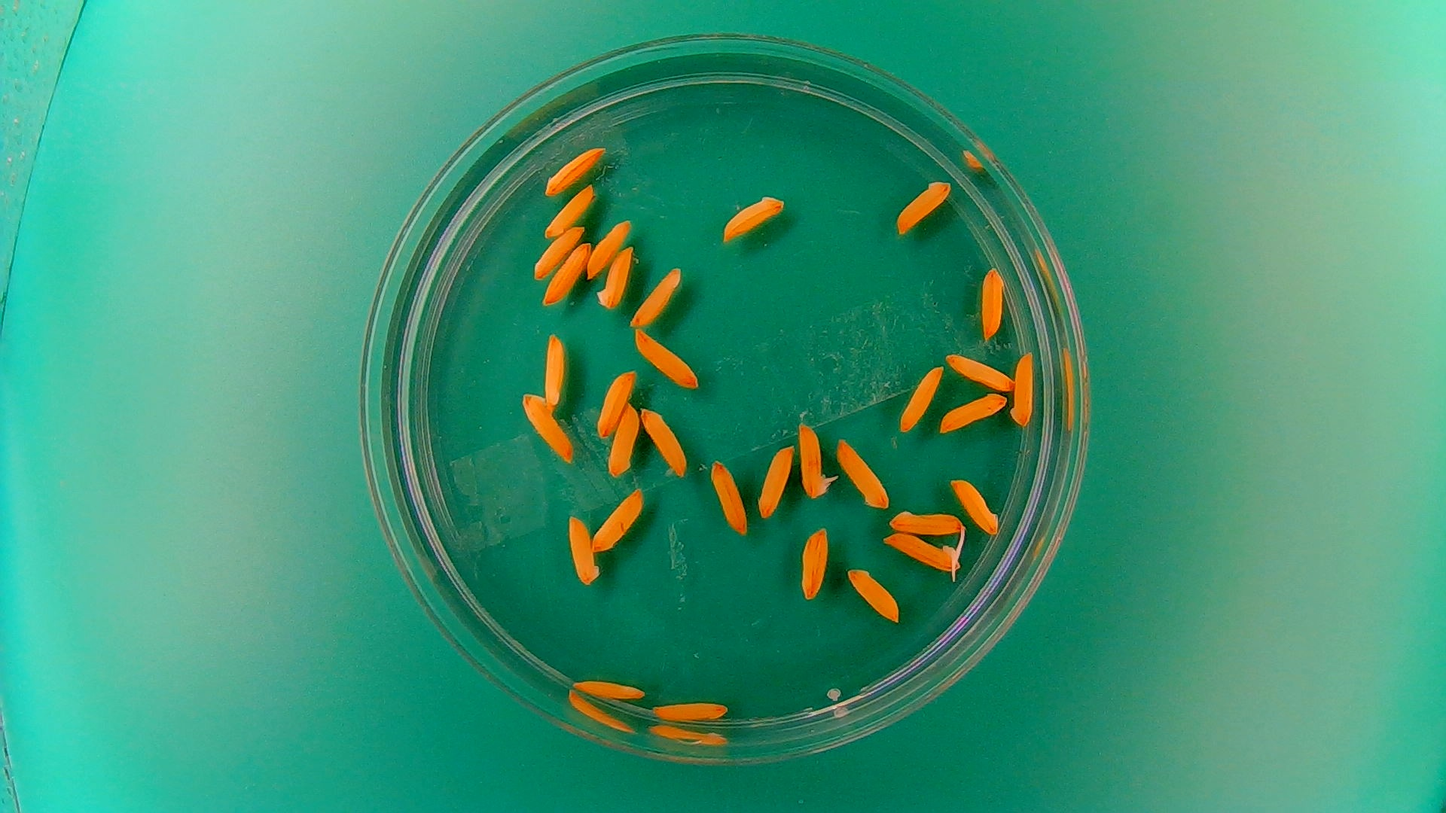no: (632, 327, 700, 390), (834, 434, 891, 509), (520, 390, 575, 463), (589, 486, 646, 556), (639, 405, 689, 479), (558, 514, 607, 588), (893, 177, 953, 236), (845, 564, 902, 626), (629, 264, 683, 328), (541, 143, 606, 196), (708, 455, 750, 537), (721, 192, 788, 242), (948, 473, 1002, 535), (542, 240, 592, 306), (897, 364, 944, 434), (531, 222, 585, 280), (756, 442, 796, 520), (938, 391, 1010, 434), (593, 366, 636, 438), (543, 182, 597, 237), (942, 350, 1014, 391), (586, 217, 632, 280), (797, 523, 831, 602), (606, 400, 640, 477), (595, 245, 635, 310), (647, 695, 731, 725), (887, 508, 965, 537), (569, 674, 649, 702), (541, 330, 568, 412), (978, 263, 1007, 339), (1009, 350, 1036, 428)
yes: (879, 529, 965, 575), (797, 422, 838, 503)
